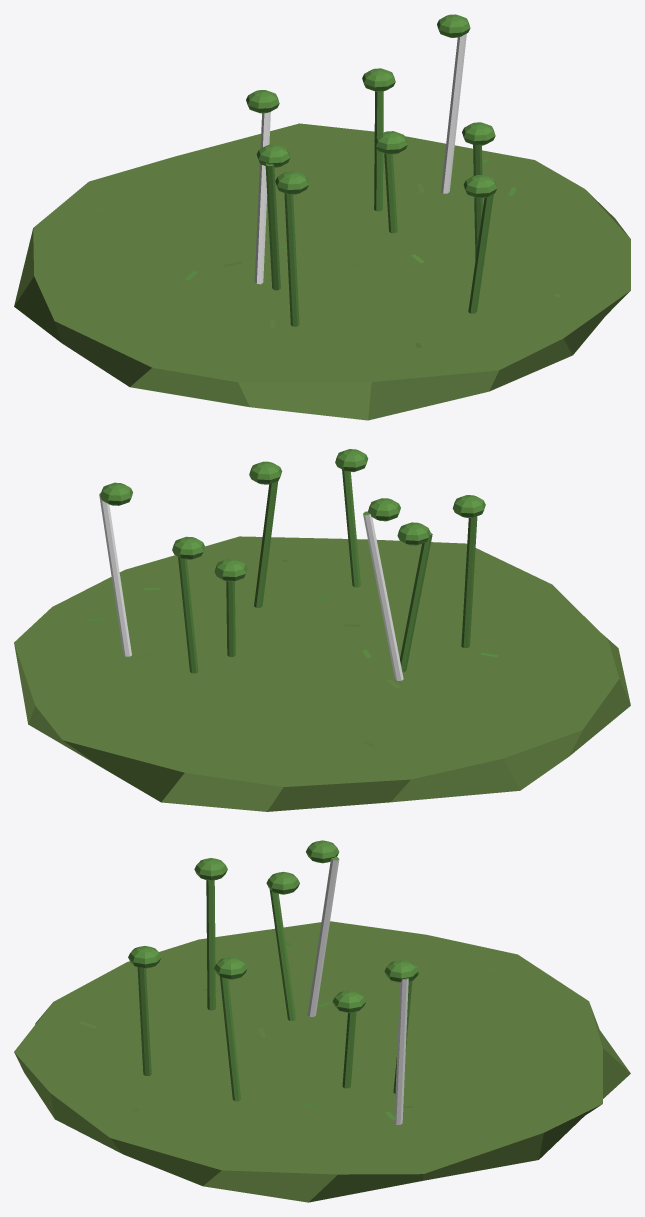
The model's file is flower_patch.glb.
3 renders of one model, top to bottom at view 1: azimuth 30°, elevation 25°; view 2: azimuth 150°, elevation 25°; view 3: azimuth 270°, elevation 25°, orthographic. The views are drawn at different scales.
Parts seen in each view (by area): view 1: flower_patch; view 2: flower_patch; view 3: flower_patch.
Part boxes in pixels (x1,y1,x2,y2): flower_patch: (14, 14, 630, 420); flower_patch: (14, 449, 630, 811); flower_patch: (14, 840, 630, 1202).
Size of the model in its own units: 0.727 by 0.264 by 0.7327.
